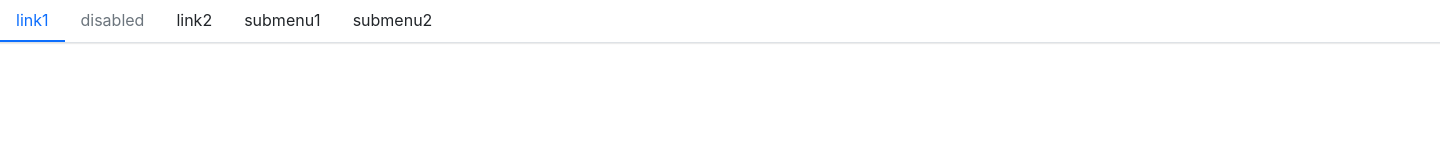
test Menu and MenuItem component in default(horizontal) mode › should show dropdown items when hover on subMenu
The width and height of the screenshot is (1440, 160).
Hover over the list item with test id "rec-submenu" showing "submenu1" at coordinates (282, 20), box x1=244 y1=10 x2=321 y2=30
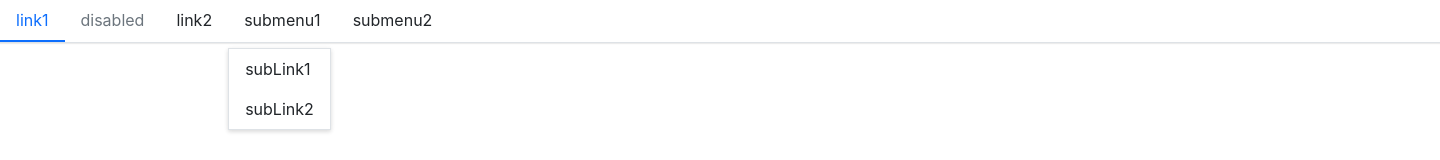
Check: the list item "subLink1" is shown
Click the list item "subLink1" at coordinates (278, 69), box x1=245 y1=59 x2=311 y2=79
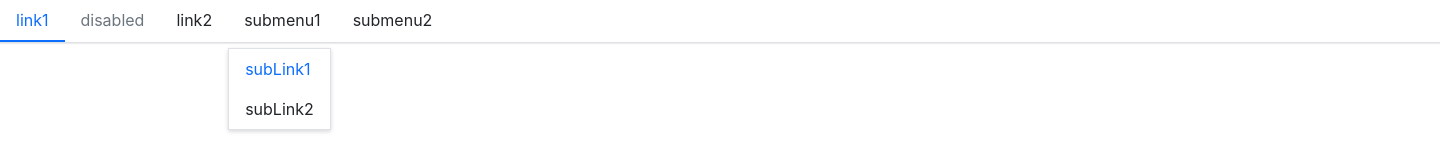
Check: the list item "subLink1" has class "menu-item is-active", box x1=245 y1=59 x2=311 y2=79
Move the pointer off the list item with test id "rec-submenu" showing "submenu1 subLink1 subLink2", box x1=244 y1=10 x2=321 y2=30
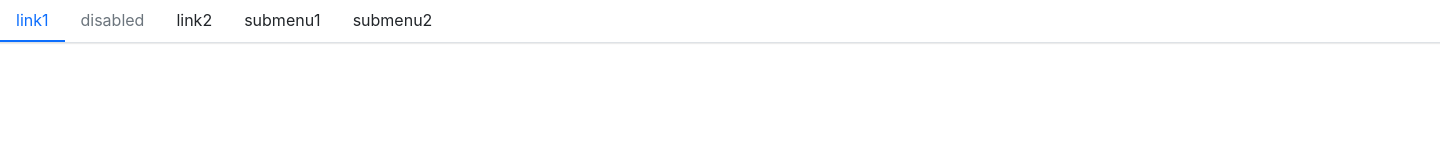
Check: the list item "subLink1" is gone
